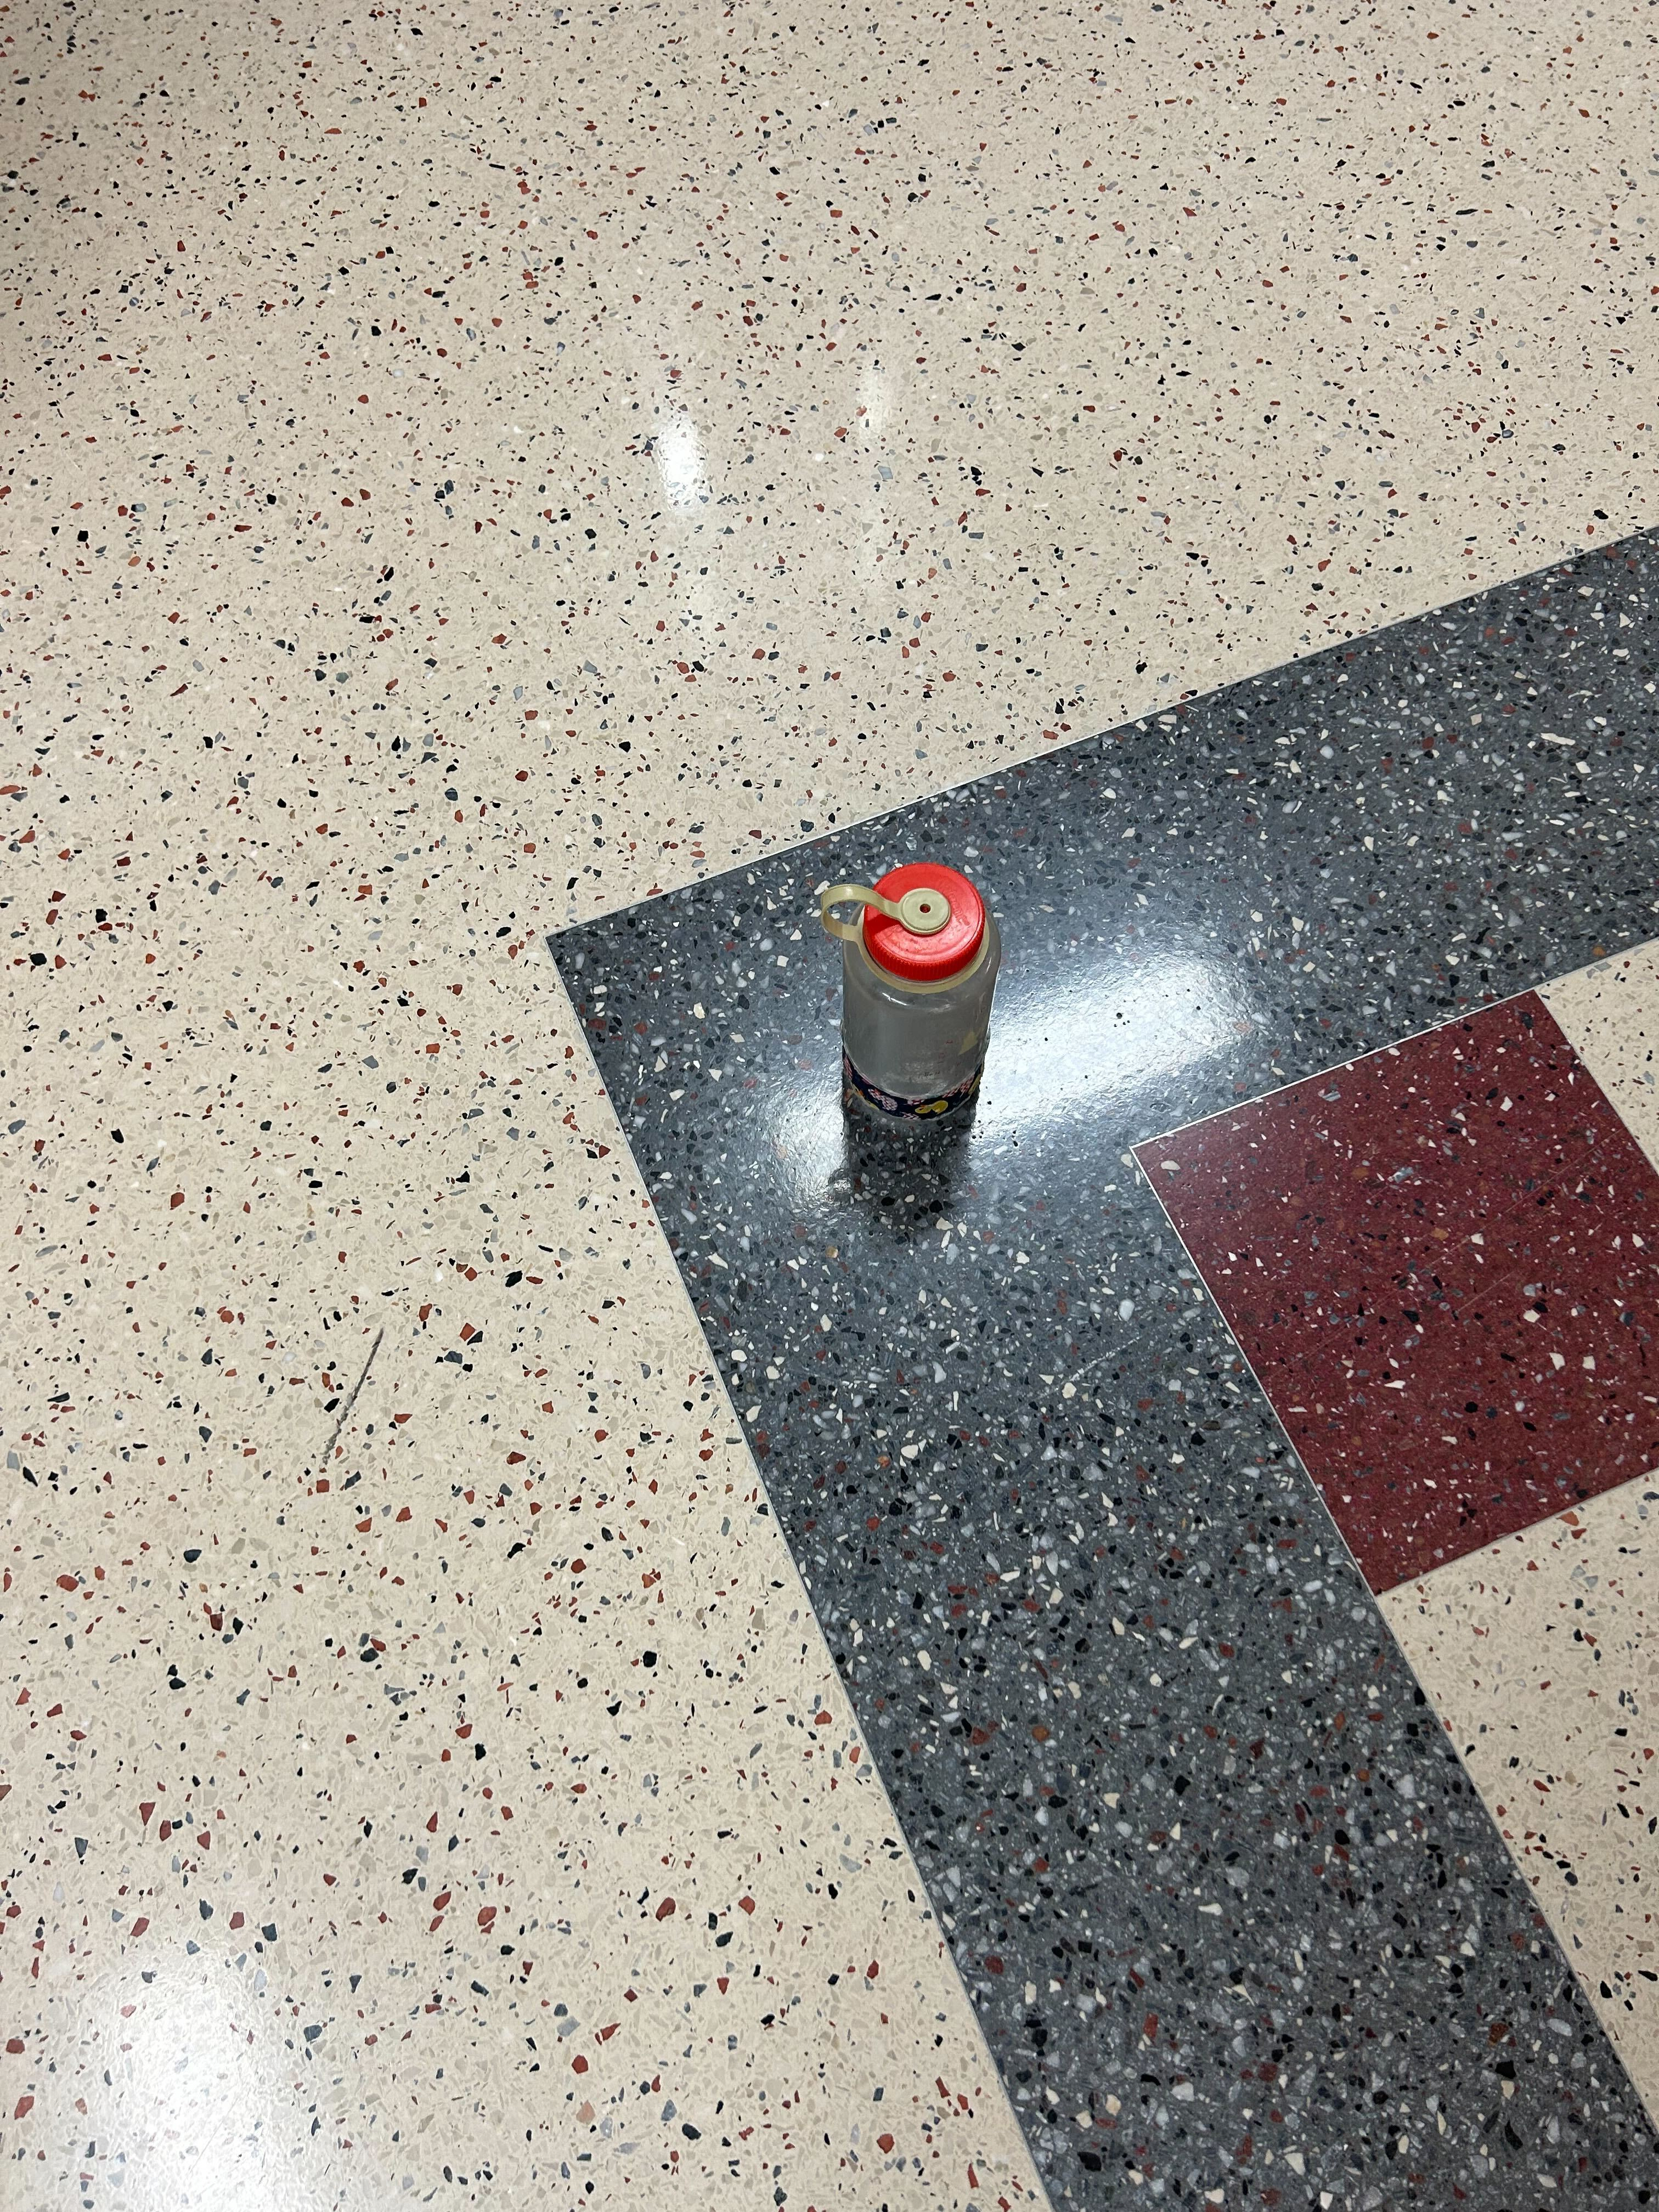bottle: (814, 850, 1006, 1153)
